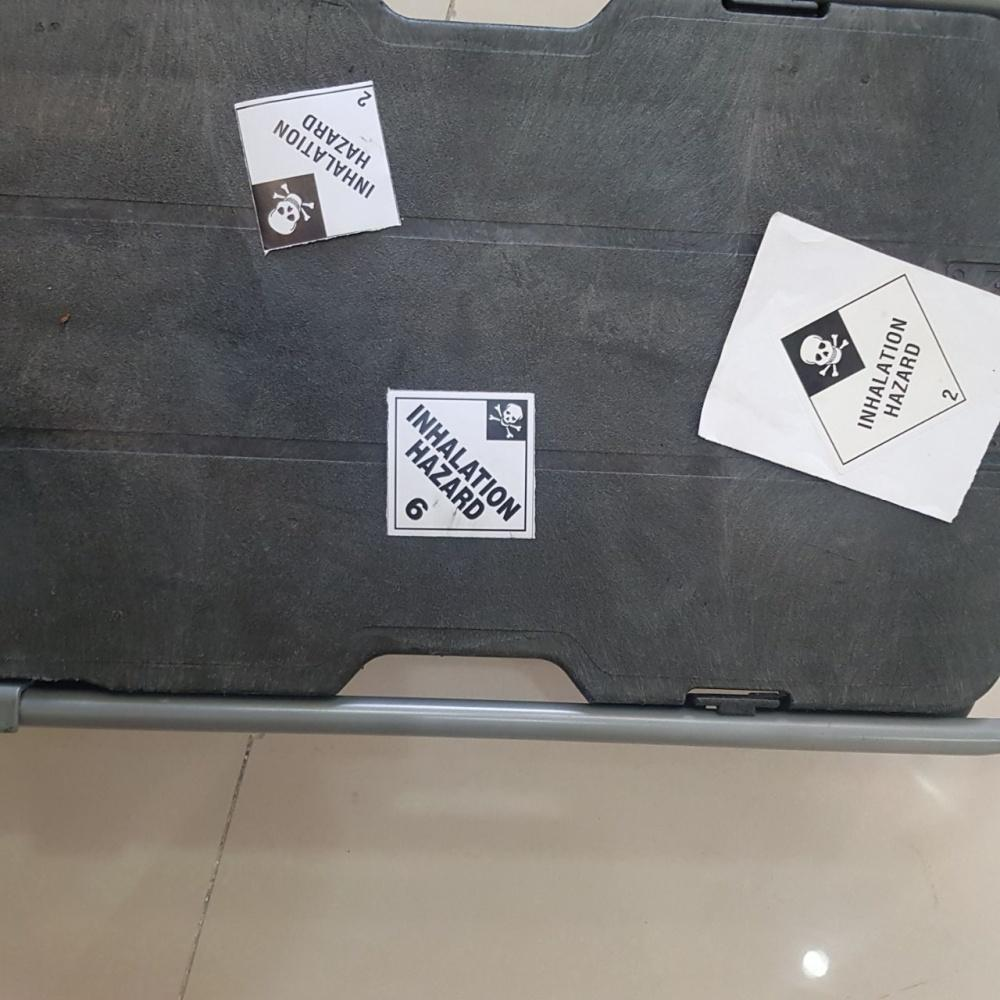poison: (780, 273, 969, 468), (232, 79, 401, 256), (387, 392, 534, 538)
